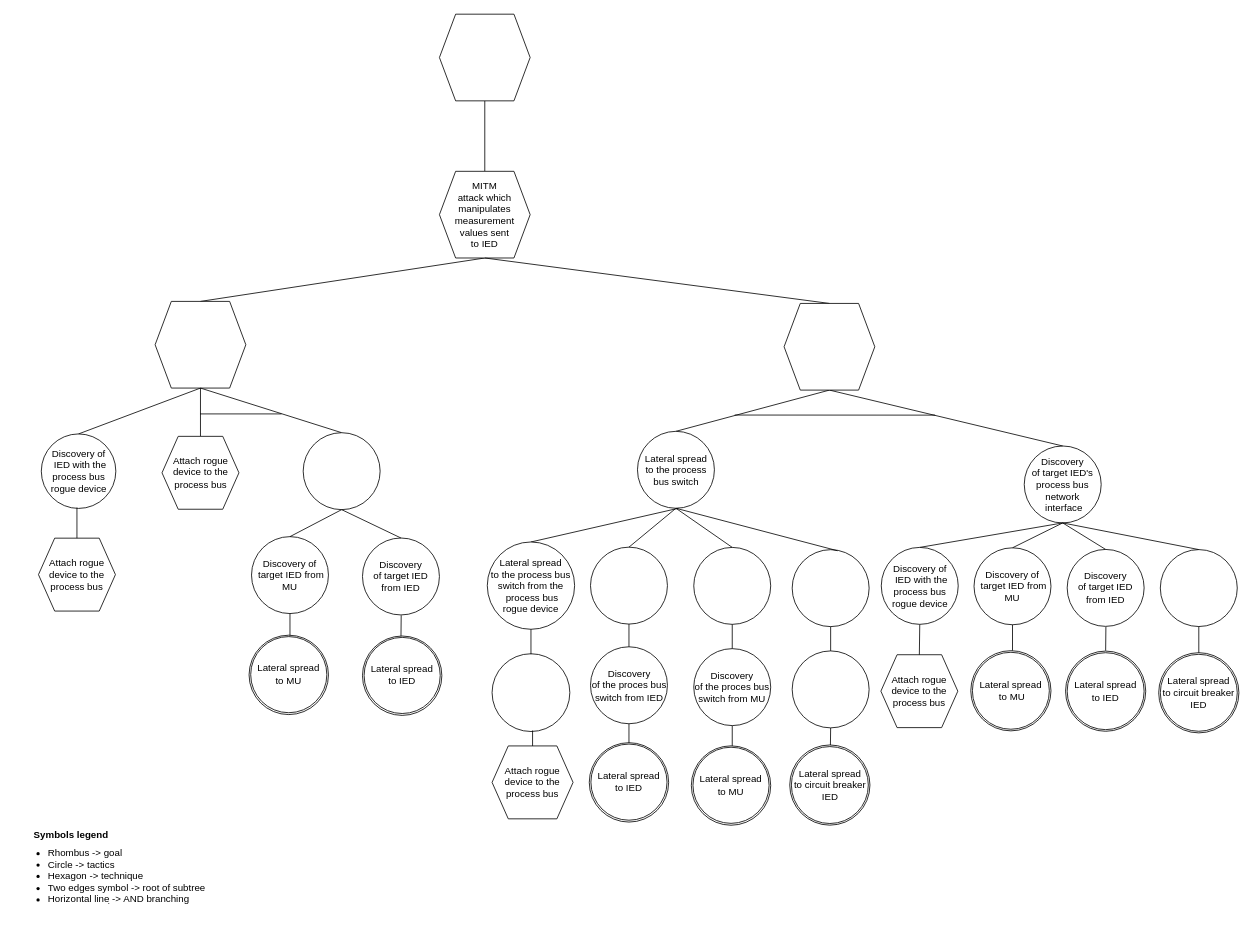
Some shapes in this 1253 by 944 pixel diagram are drawn without their labels. Here are the shapes that lost their labels. From the top down, the box of each, then its label:
(439, 13, 530, 101): Manipulate measurement values
(154, 301, 246, 388): MITM to IED with process bus rogue device
(783, 303, 875, 390): MITM to IED from process bus switch
(302, 432, 380, 510): Discovery of target IED's process bus network interface without rogue device
(590, 546, 667, 624): Lateral spread to the process bus switch from IED
(693, 547, 771, 624): Lateral spread to the process bus switch from MU
(791, 549, 869, 627): Lateral spread to the process bus switch from circuit breaker IED
(1160, 549, 1237, 627): Discovery of target IED from circuit breaker IED
(491, 653, 570, 732): Discovery of the process bus switch from the process bus rogue device
(791, 650, 869, 728): Discovery of the process bus switch from circuit breaker IED
